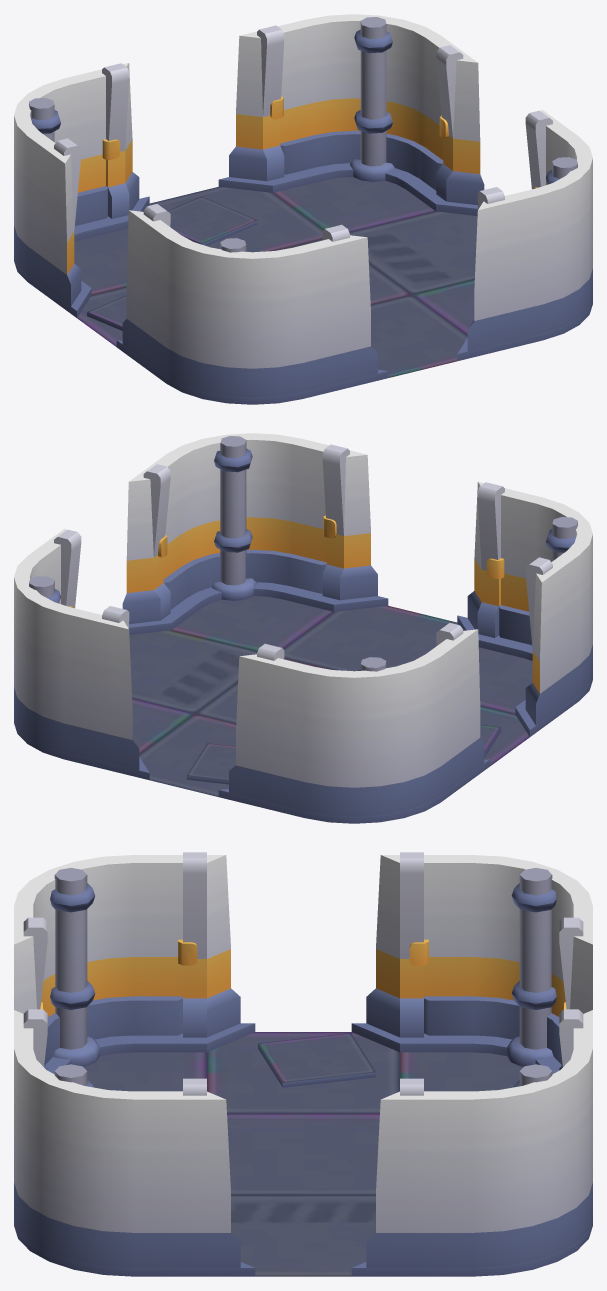
The model's file is room-small.glb.
The picture shows the model from 3 angles, top to bottom: view 1: azimuth 30°, elevation 25°; view 2: azimuth 150°, elevation 25°; view 3: azimuth 270°, elevation 25°; orthographic projection. The views are drawn at different scales.
Visible parts, largest first — view 1: room-small; view 2: room-small; view 3: room-small.
Boxes of the visible parts, x1,y1,x2,y2 form: room-small: [14, 14, 592, 404]; room-small: [14, 433, 592, 823]; room-small: [14, 852, 592, 1276].
Size of the model in its own units: 12 by 4.25 by 12.
1 material, 1 textured.
